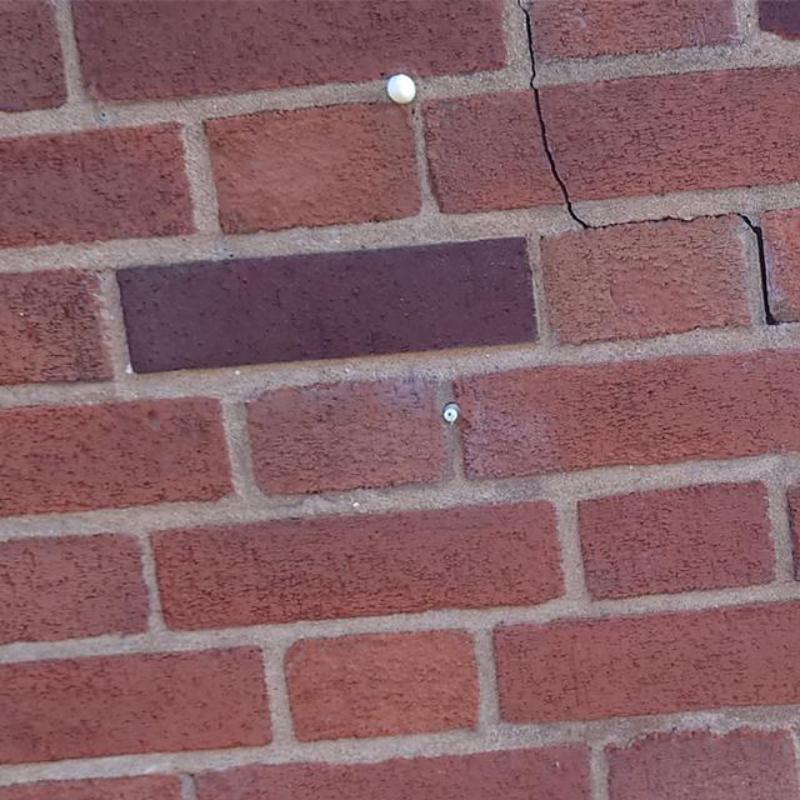crack: (517, 0, 589, 228), (737, 214, 778, 325), (590, 211, 736, 229)
